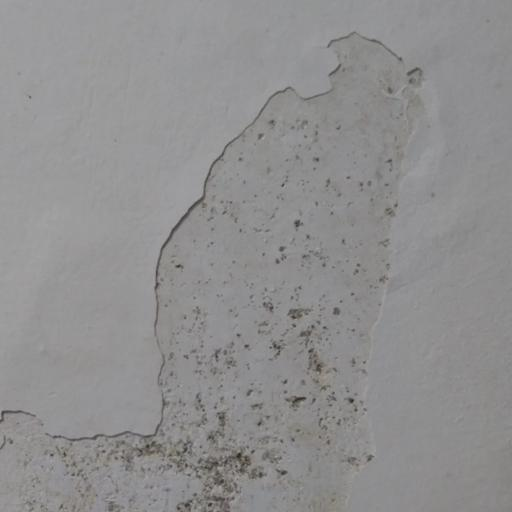peeling: (0, 26, 429, 511)
